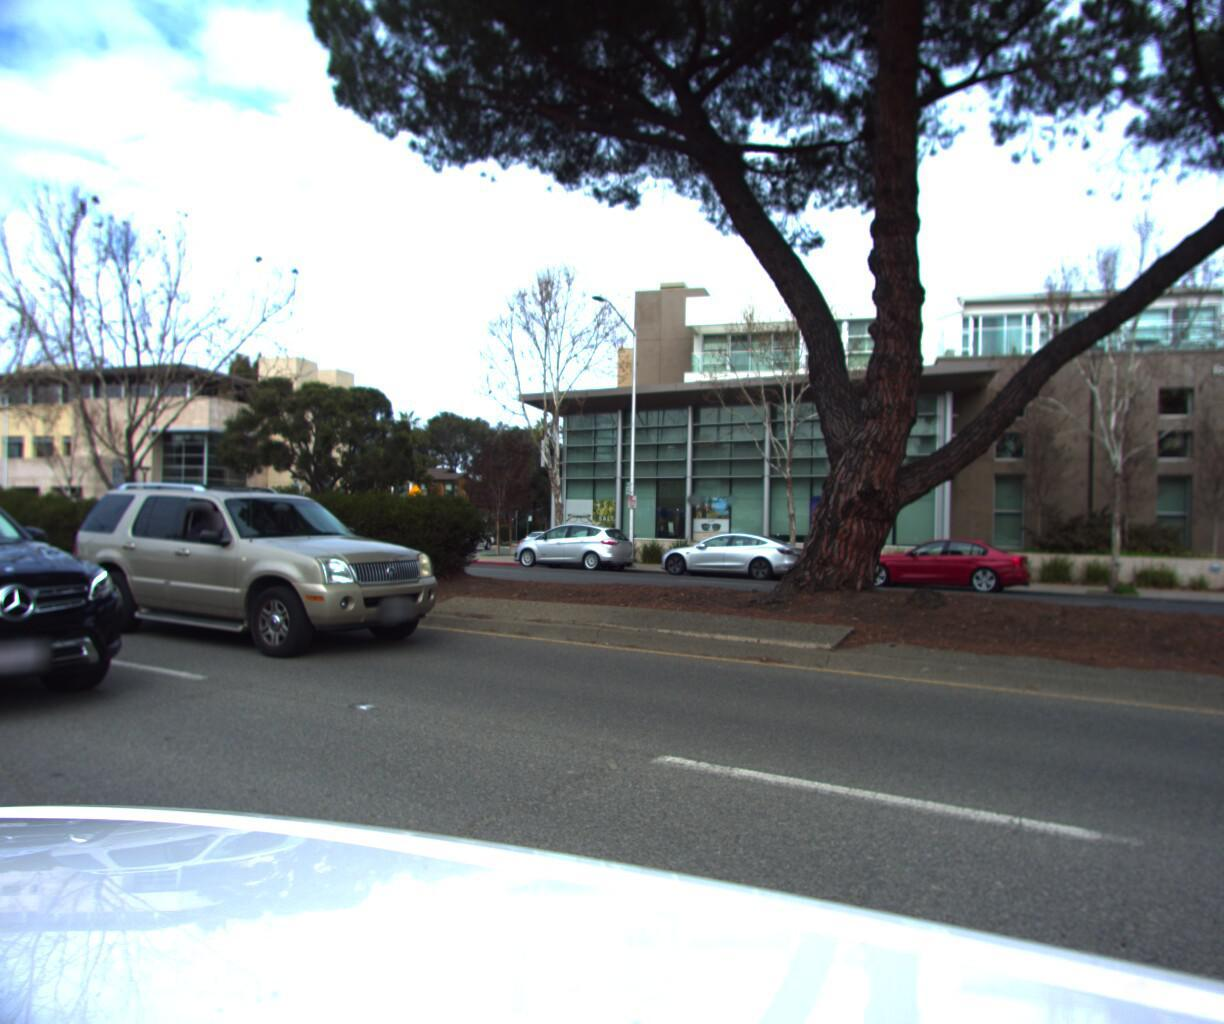car: (58, 480, 460, 673), (0, 441, 148, 759), (842, 534, 1037, 595), (652, 529, 814, 585), (499, 523, 640, 575)
